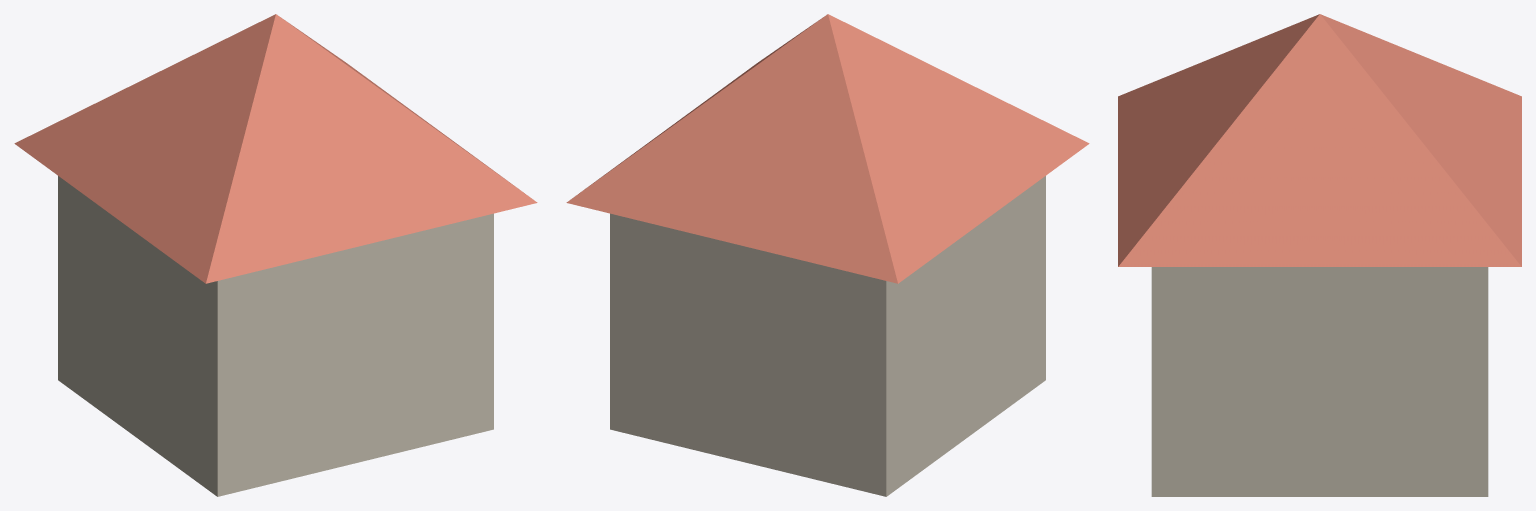
Rendered from house.glb.
3 renders of one model, left to right at view 1: azimuth 30°, elevation 25°; view 2: azimuth 150°, elevation 25°; view 3: azimuth 270°, elevation 25°, orthographic. The views are drawn at different scales.
Parts seen in each view (by area): view 1: house; view 2: house; view 3: house.
Boxes of the visible parts, left/top/right/bottom form: house: left=14, top=14, right=537, bottom=496; house: left=566, top=14, right=1089, bottom=496; house: left=1118, top=14, right=1521, bottom=496.
Bounding box in the file's own units: 2.4 × 2.7 × 2.4.
